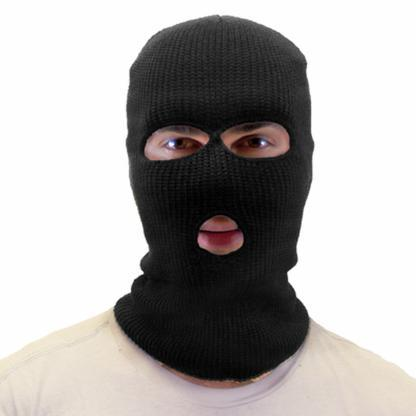criminal: (0, 15, 416, 416)
